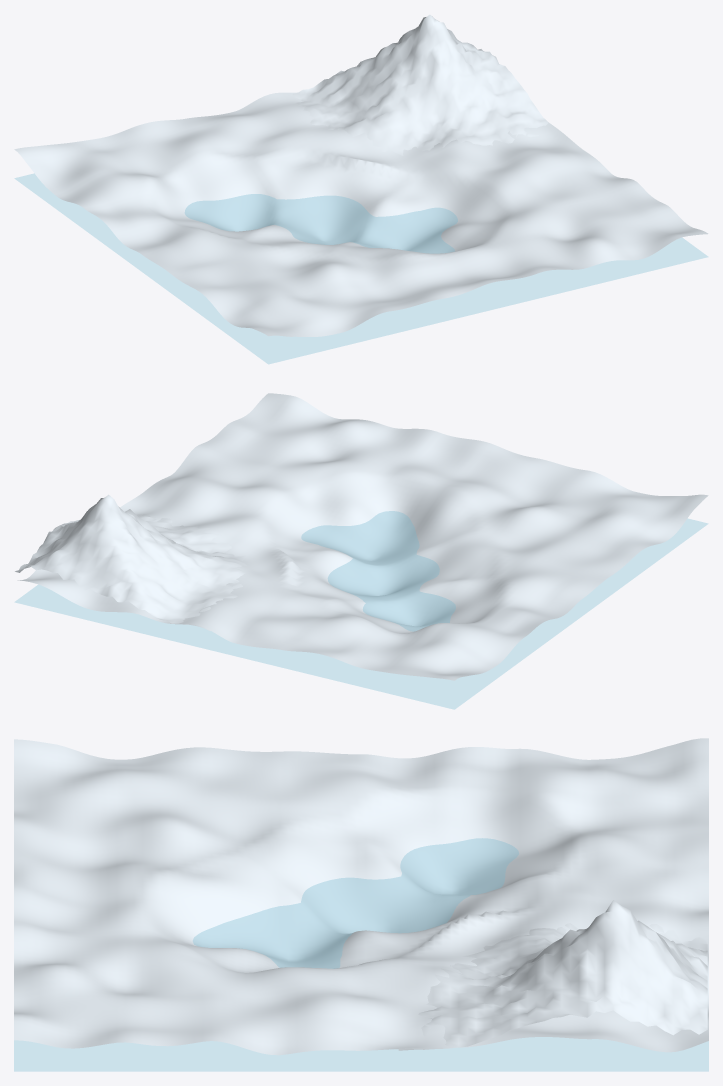
The model's file is map.glb.
3 renders of one model, top to bottom at view 1: azimuth 30°, elevation 25°; view 2: azimuth 150°, elevation 25°; view 3: azimuth 270°, elevation 25°, orthographic. The views are drawn at different scales.
Visible parts, largest first — view 1: Terrain, Water, Mountain; view 2: Terrain, Water, Mountain; view 3: Terrain, Water, Mountain.
Part boxes in pixels (bbox=[...]): Terrain: bbox=[14, 92, 708, 336]; Water: bbox=[15, 173, 707, 363]; Mountain: bbox=[292, 14, 547, 155]; Terrain: bbox=[17, 393, 708, 680]; Water: bbox=[15, 511, 707, 709]; Mountain: bbox=[15, 494, 250, 630]; Terrain: bbox=[14, 738, 708, 1055]; Water: bbox=[14, 838, 708, 1071]; Mountain: bbox=[394, 900, 707, 1050].
Size of the model in its own units: 240 by 61.37 by 240.
